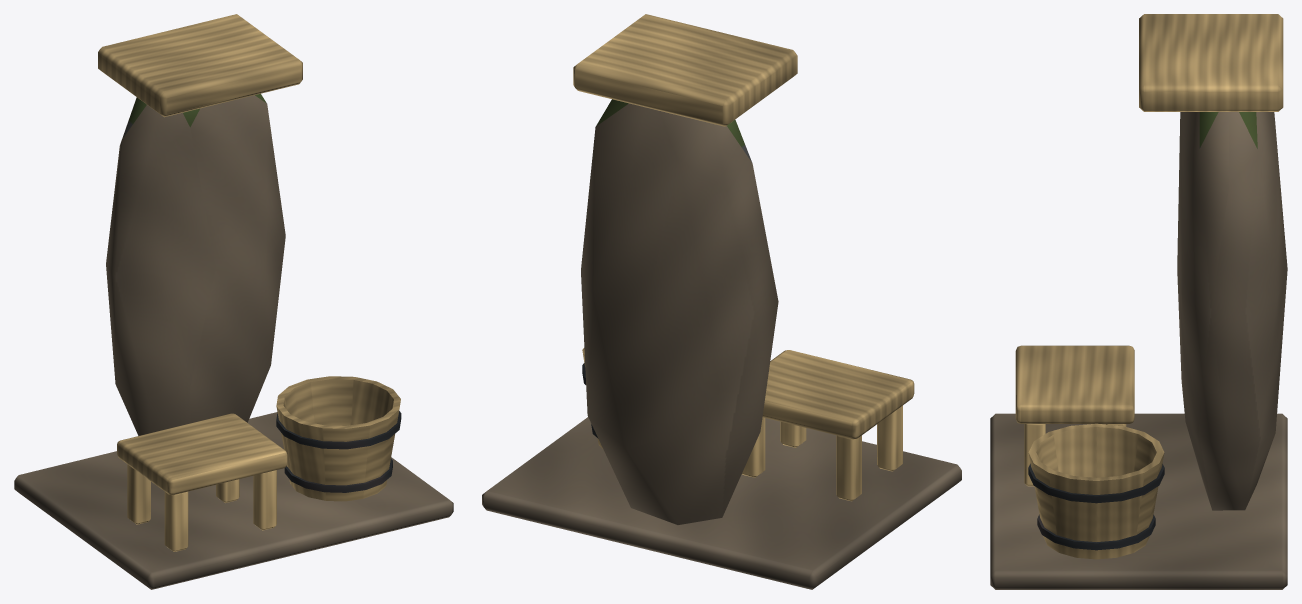
The model's file is Furn_Spa_WashSpot.fbx.
3 views of the same model, side by side, from view 1: azimuth 30°, elevation 25°; view 2: azimuth 150°, elevation 25°; view 3: azimuth 270°, elevation 25° (orthographic). The views are drawn at different scales.
Parts seen in each view (by area): view 1: Furn_Spa_WashSpot; view 2: Furn_Spa_WashSpot; view 3: Furn_Spa_WashSpot.
Boxes of the visible parts, x1,y1,x2,y2 form: Furn_Spa_WashSpot: [14, 14, 453, 589]; Furn_Spa_WashSpot: [482, 14, 961, 589]; Furn_Spa_WashSpot: [990, 14, 1287, 589].
Size of the model in its own units: 0.9 by 1.2 by 0.7.
Materials: 3 (3 with a texture image).
